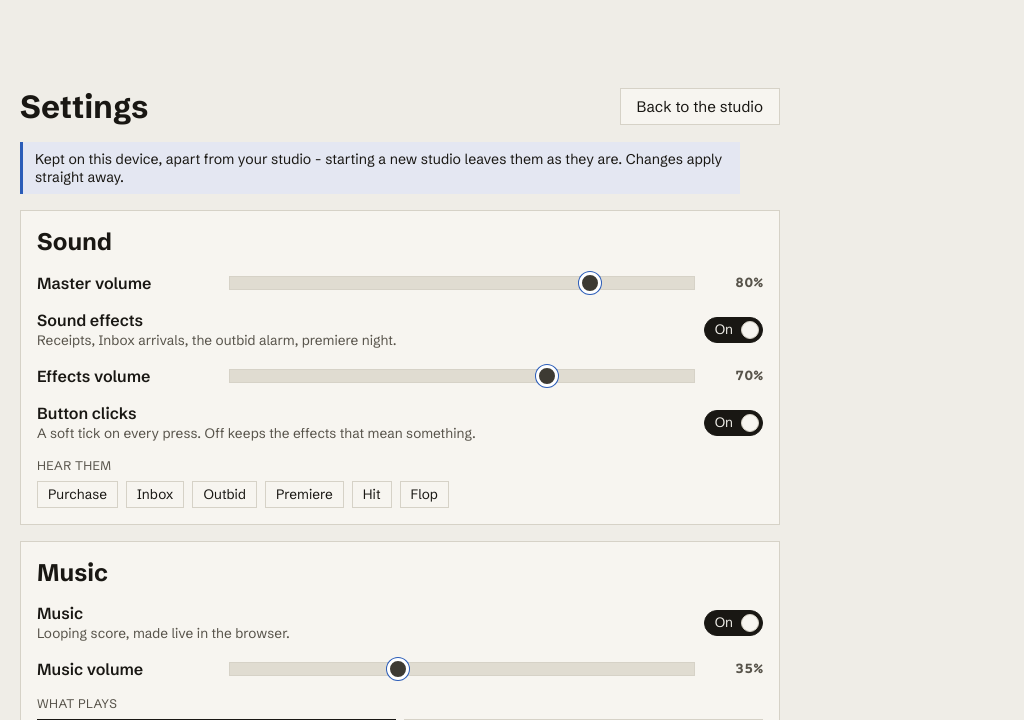
SettingsPage › turns music off and remembers it
Click the switch named "Music".
click(733, 622)  # box [704,610,763,636]
(page scrolled)
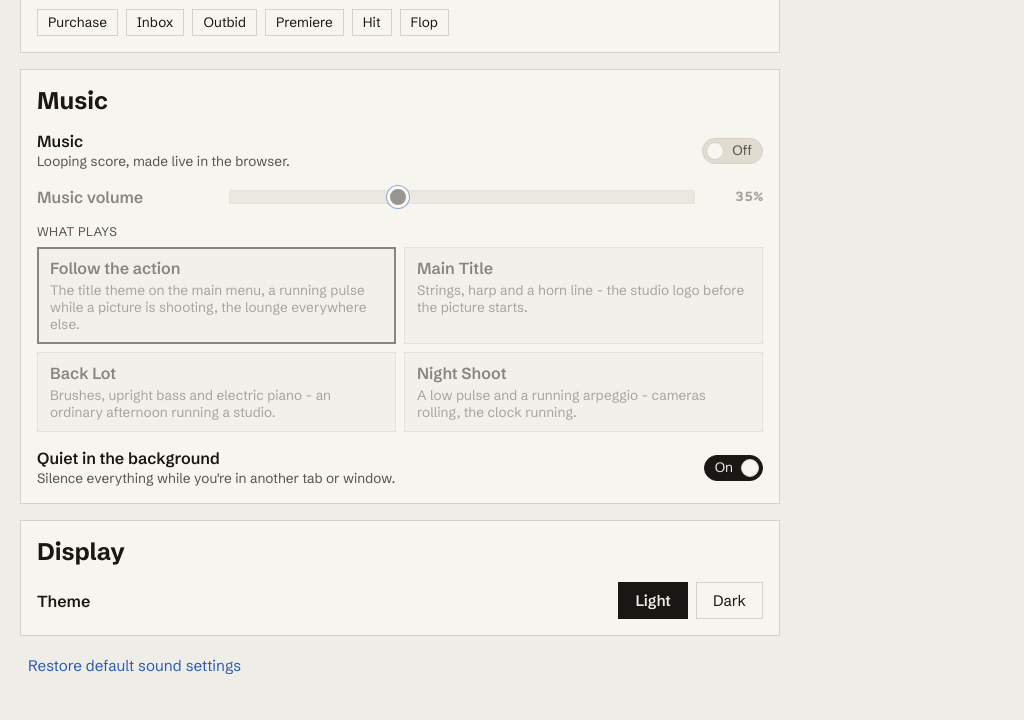
Expected: the radio button labelled "Back Lot" is disabled, [37,352,396,432]
